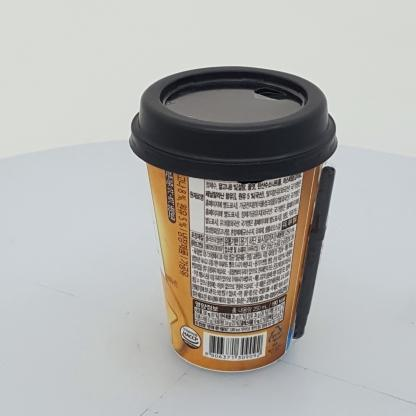---------250ML: (129, 66, 337, 372)
